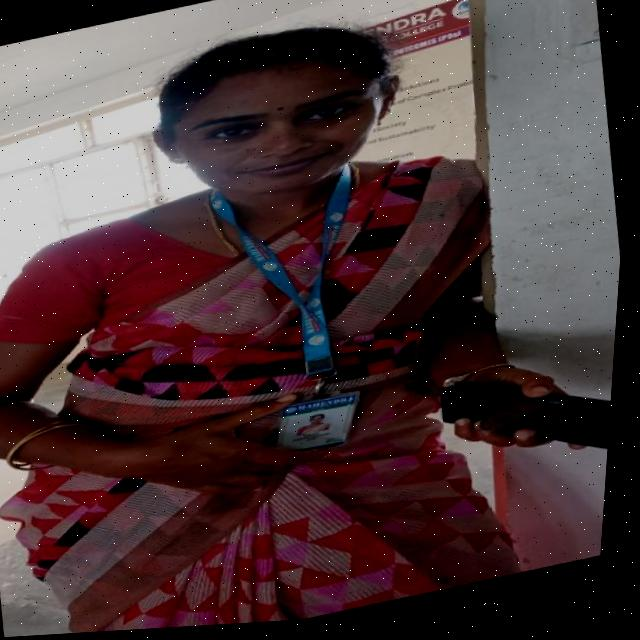id_card: (185, 160, 403, 480)
